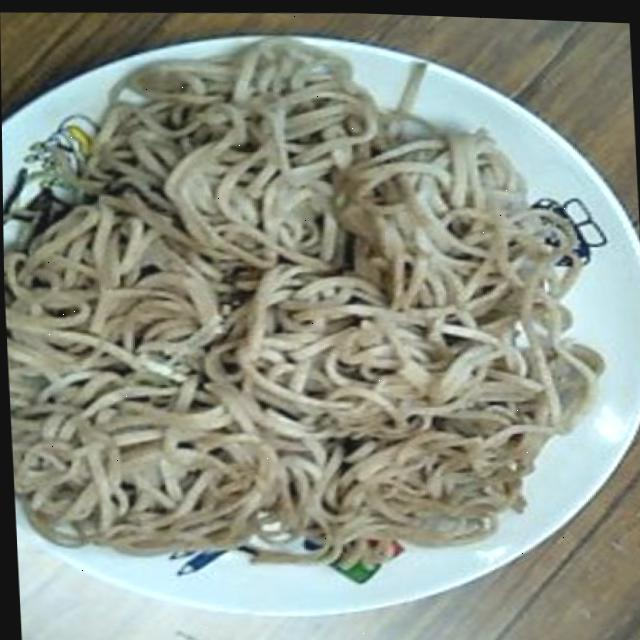面条主食: (0, 9, 640, 636)
